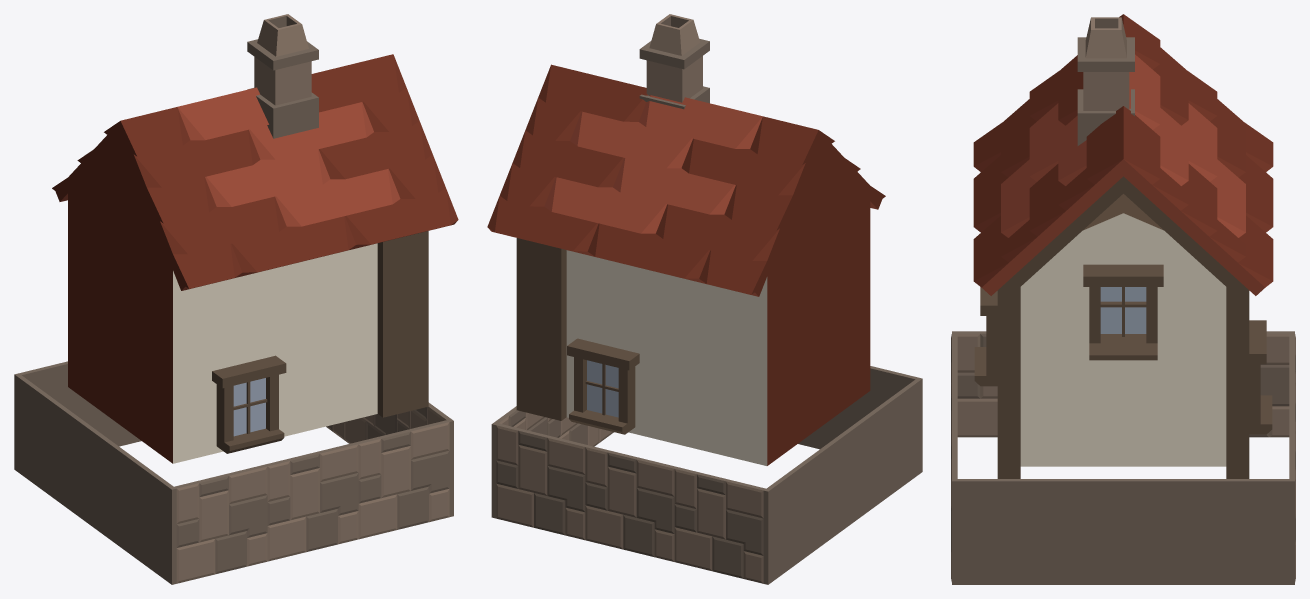
The model's file is village-cottage.obj.
3 renders of one model, left to right at view 1: azimuth 30°, elevation 25°; view 2: azimuth 150°, elevation 25°; view 3: azimuth 270°, elevation 25°, orthographic. The views are drawn at different scales.
Parts seen in each view (by area): view 1: village-cottage; view 2: village-cottage; view 3: village-cottage.
Part boxes in pixels (x1=…): village-cottage: x1=14, y1=14, x2=458, y2=584; village-cottage: x1=487, y1=14, x2=922, y2=584; village-cottage: x1=951, y1=14, x2=1295, y2=584.
Bounding box in the file's own units: 3.3 × 4.9 × 3.01.
